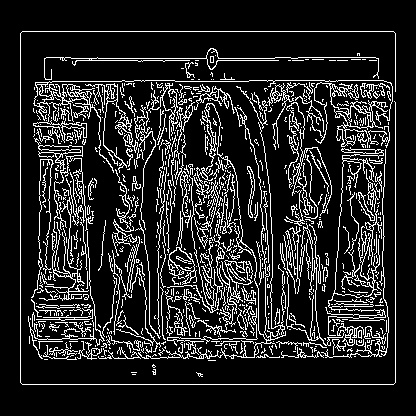buddha-sitting: (92, 208, 210, 210)
